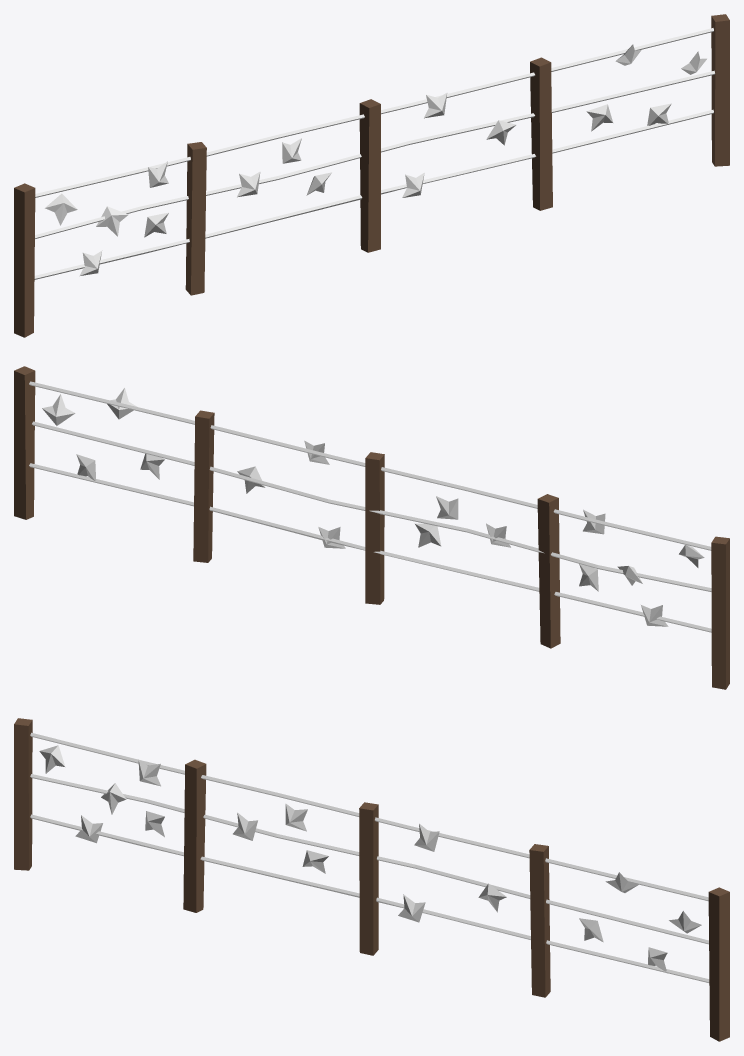
File: fence-vineyard02.fbx
The picture shows the model from 3 angles, top to bottom: view 1: azimuth 30°, elevation 25°; view 2: azimuth 150°, elevation 25°; view 3: azimuth 330°, elevation 25°; orthographic projection.
Visible parts, largest first — view 1: fence-vineyard02; view 2: fence-vineyard02; view 3: fence-vineyard02.
Boxes of the visible parts, x1,y1,x2,y2 form: fence-vineyard02: [14, 14, 729, 337]; fence-vineyard02: [14, 366, 729, 689]; fence-vineyard02: [14, 718, 729, 1041].
Bounding box in the file's own units: 10.22 × 0.3267 × 2.02.
